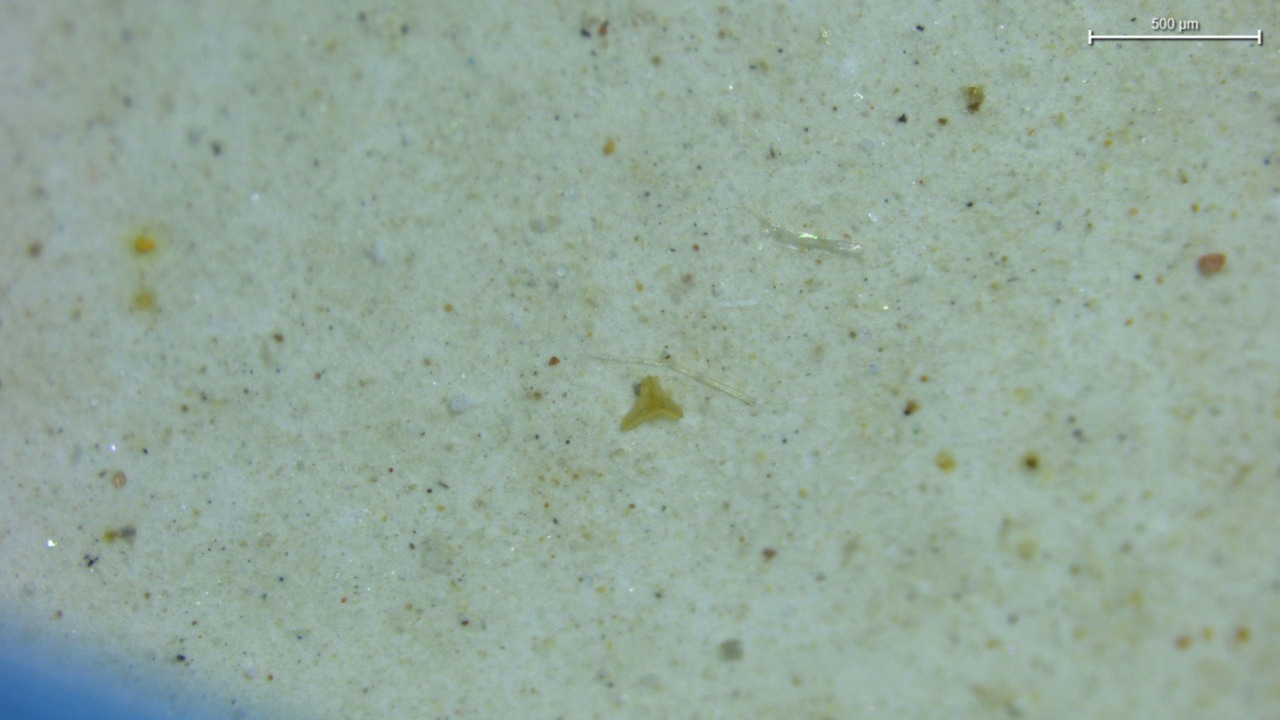microplastic_fragment: (622, 376, 683, 430), (448, 395, 475, 414)
